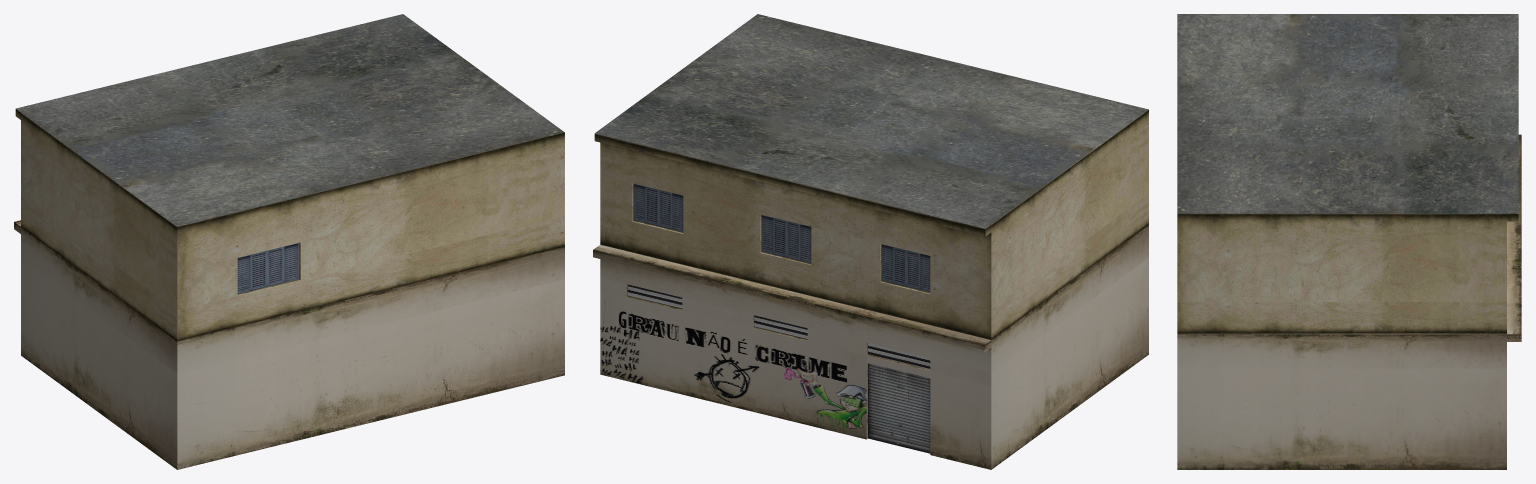
Rendered from fuel_pump_house.glb.
3 renders of one model, left to right at view 1: azimuth 30°, elevation 25°; view 2: azimuth 150°, elevation 25°; view 3: azimuth 270°, elevation 25°, orthographic. The views are drawn at different scales.
Parts seen in each view (by area): view 1: Cubo.224; view 2: Cubo.224; view 3: Cubo.224.
Boxes of the visible parts, x1,y1,x2,y2 form: Cubo.224: [14, 14, 564, 469]; Cubo.224: [593, 14, 1148, 469]; Cubo.224: [1177, 14, 1521, 469].
Size of the model in its own units: 16 by 9.59 by 11.66.
Materials: 1 (1 with a texture image).
